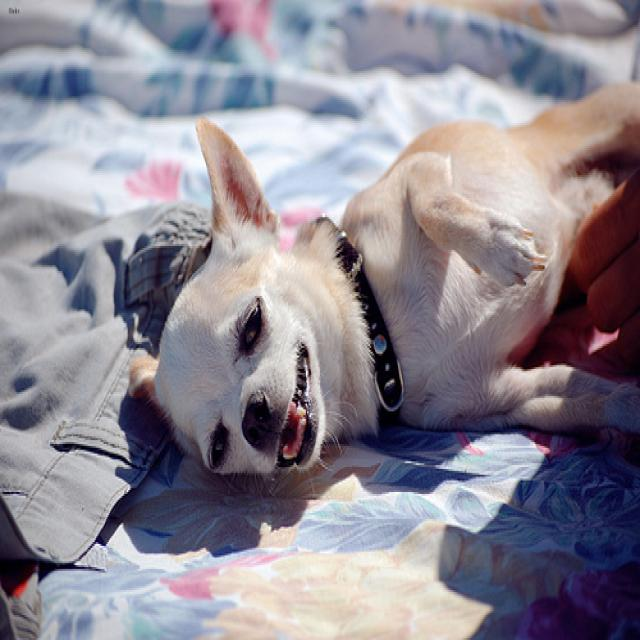dog-chihuahua: (118, 79, 637, 484)
